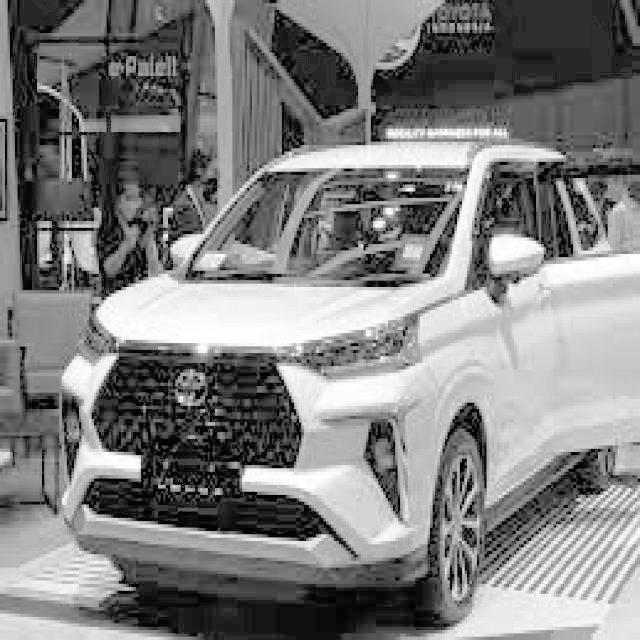Car: (35, 78, 640, 630)
